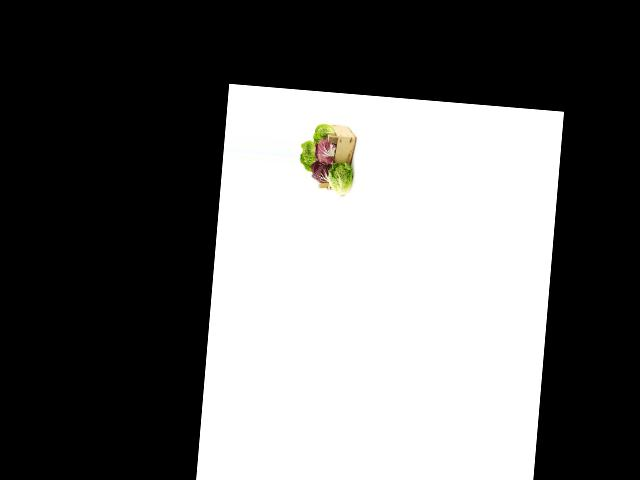lettuce: (298, 139, 322, 172)
